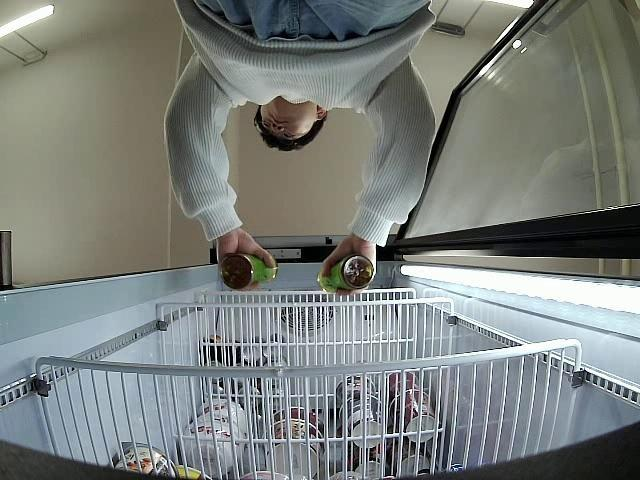19_17cha: (220, 252, 279, 289), (316, 256, 373, 293)
